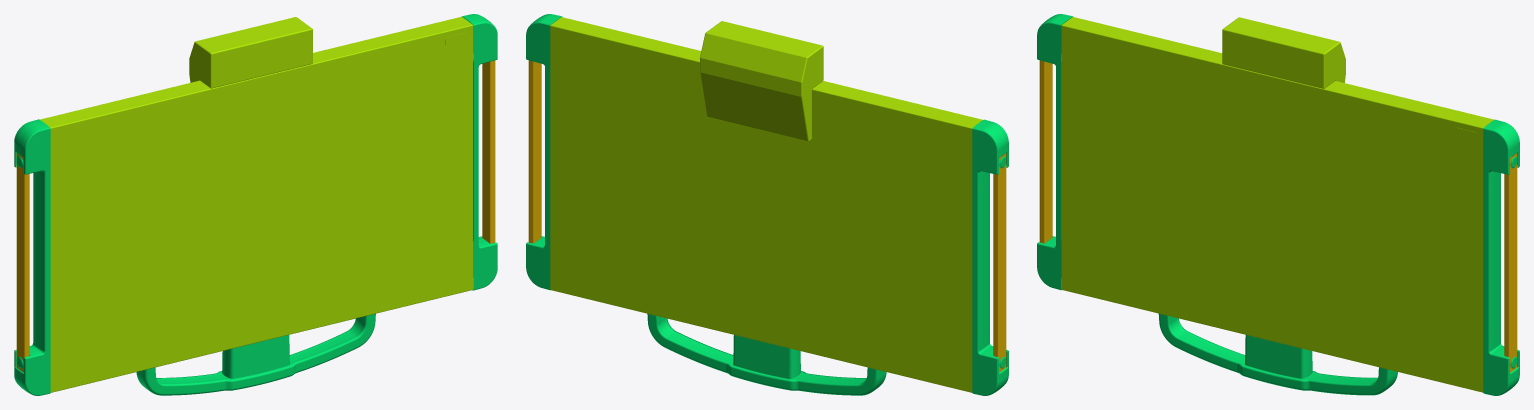
The model's file is BoomHead_MiddleShelfPull.fbx.
3 renders of one model, left to right at view 1: azimuth 30°, elevation 25°; view 2: azimuth 150°, elevation 25°; view 3: azimuth 330°, elevation 25°, orthographic.
Visible parts, largest first — view 1: BoomHead_MiddleShelfPull; view 2: BoomHead_MiddleShelfPull; view 3: BoomHead_MiddleShelfPull.
Boxes of the visible parts, box(x1,y1,x2,y2) form: BoomHead_MiddleShelfPull: box(14, 14, 497, 395); BoomHead_MiddleShelfPull: box(526, 14, 1008, 395); BoomHead_MiddleShelfPull: box(1037, 14, 1519, 395).
Size of the model in its own units: 84.06 by 58.31 by 7.05.
